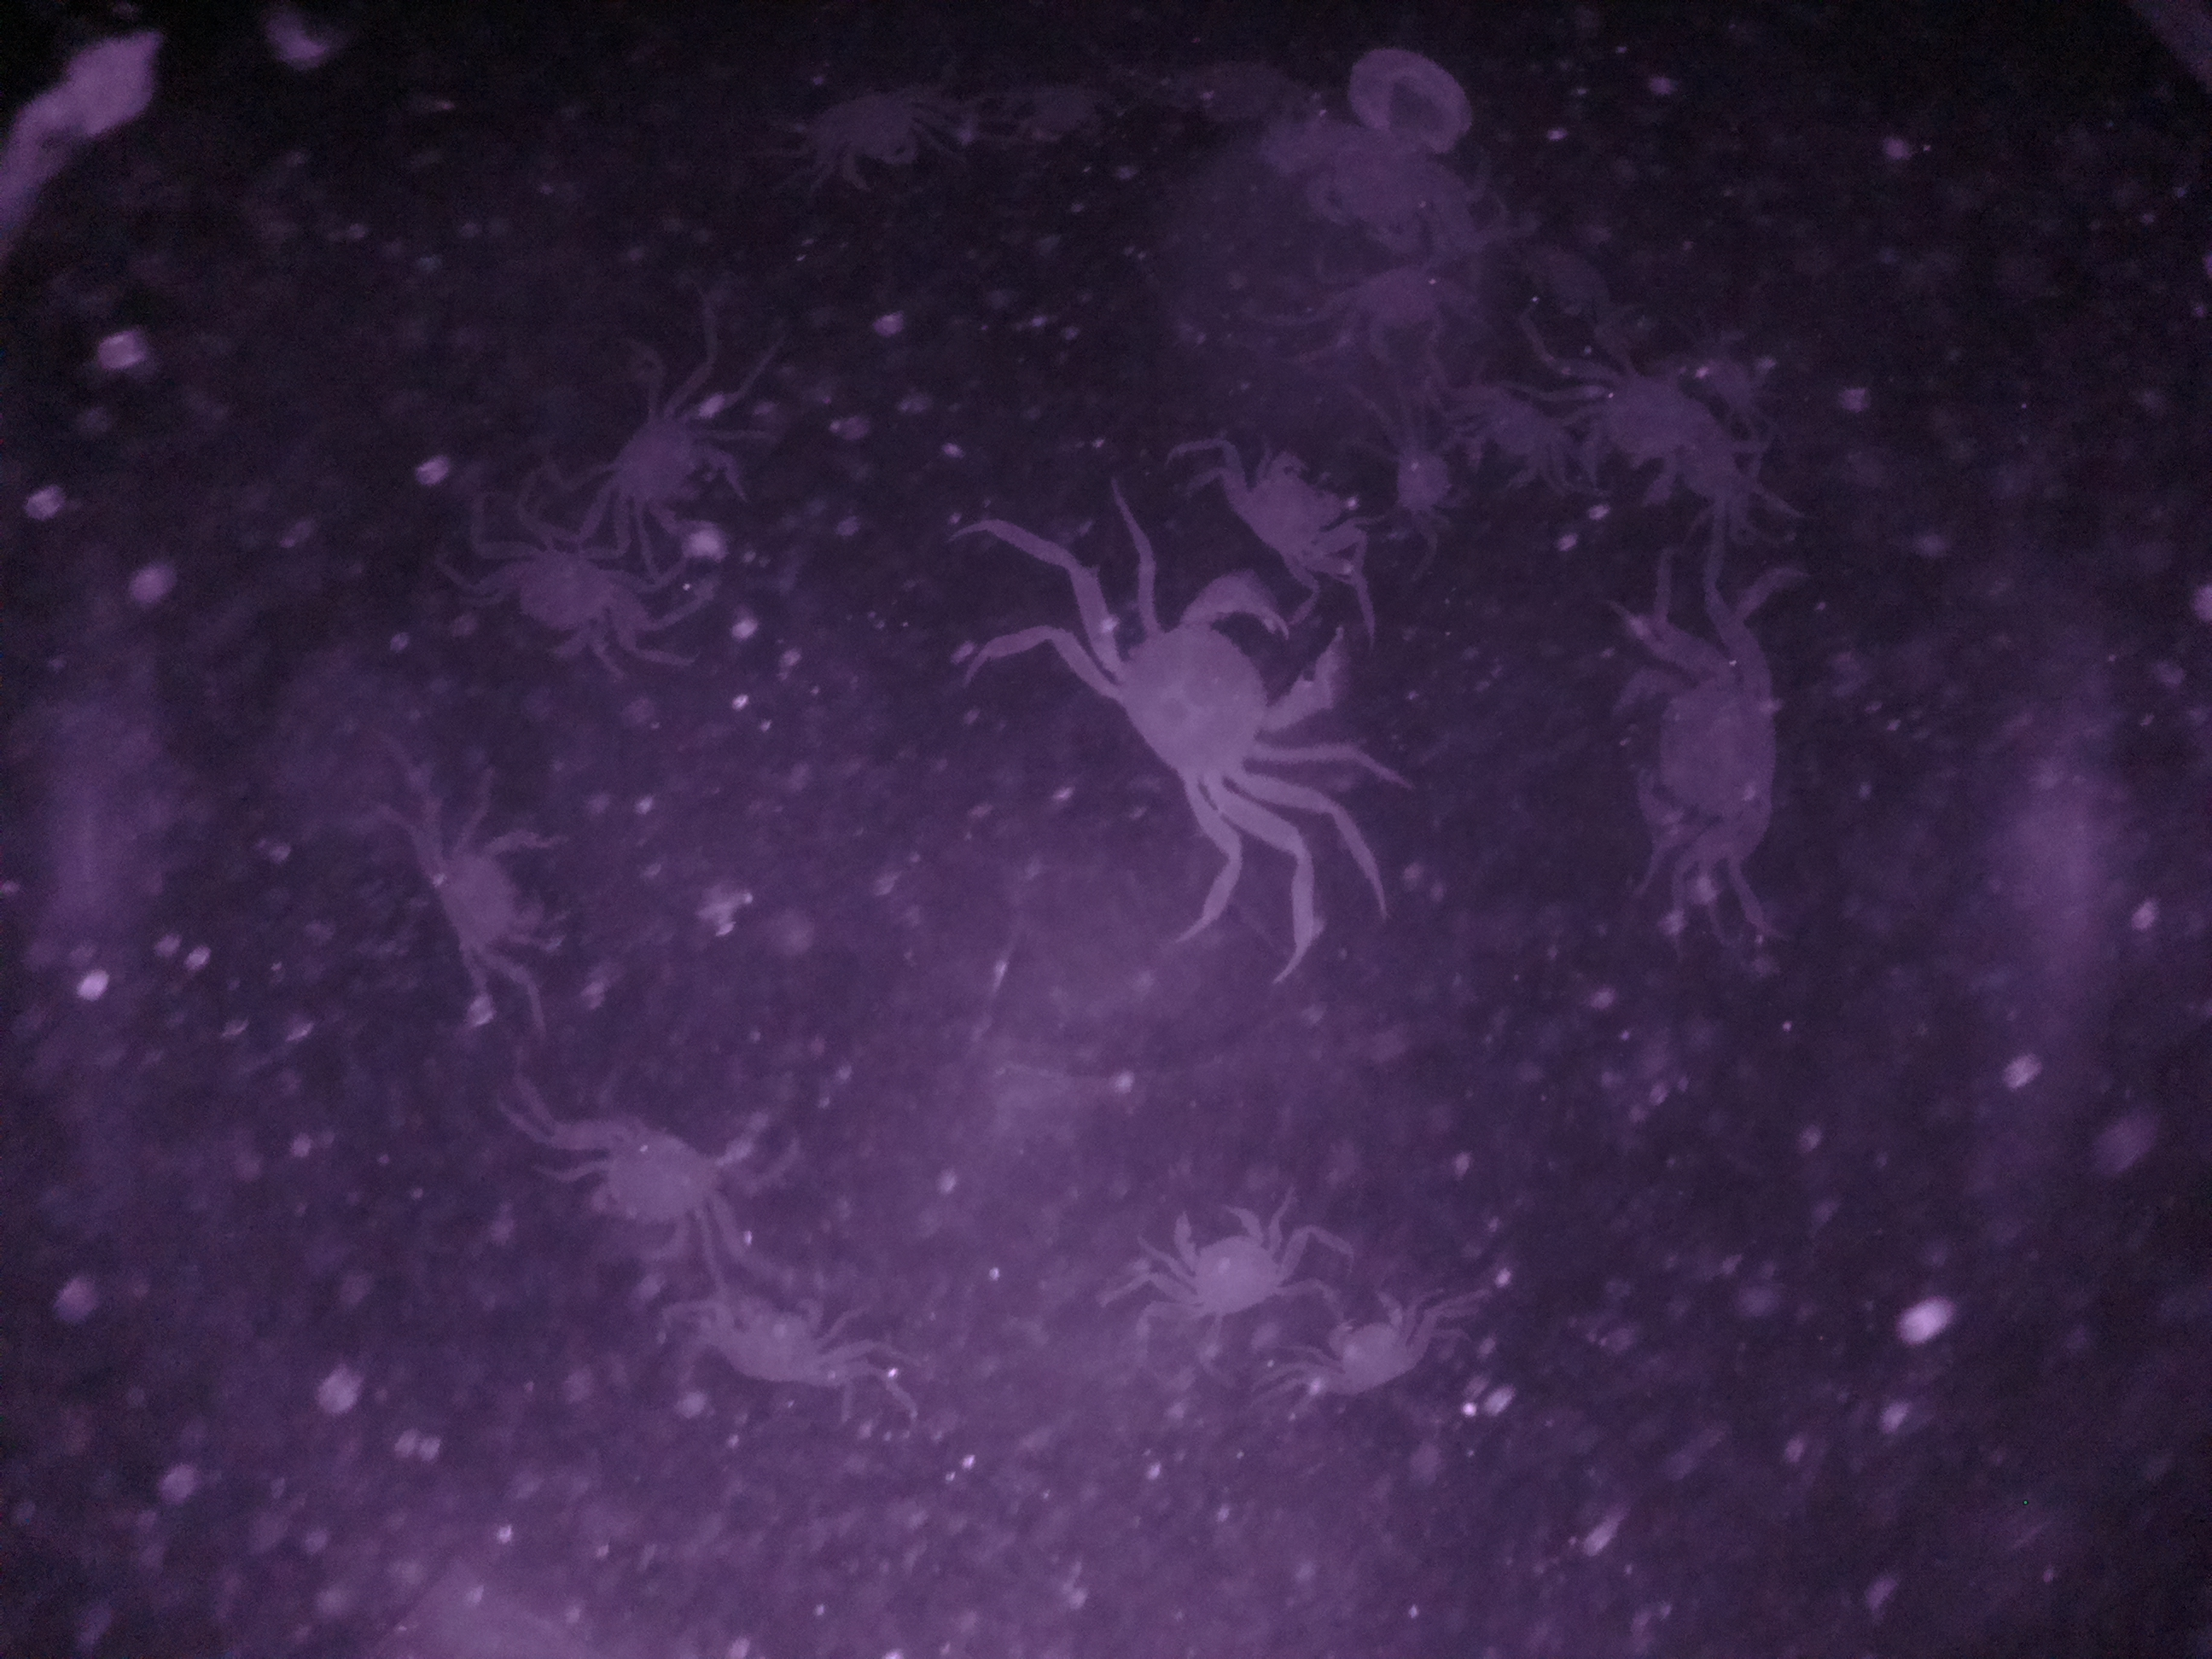Crab: (1062, 586, 1348, 836), (1609, 617, 1794, 866), (577, 383, 763, 554), (552, 1108, 745, 1272), (402, 805, 570, 981), (451, 525, 636, 674), (1146, 1188, 1301, 1345), (1280, 1276, 1430, 1427), (1211, 432, 1355, 573), (686, 1290, 860, 1401)
